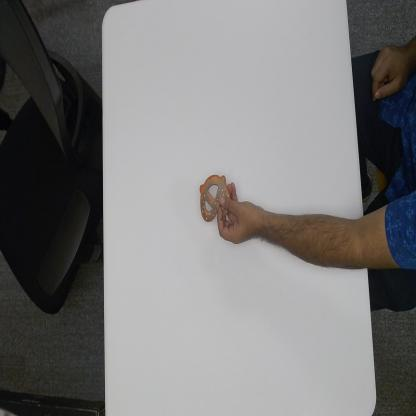Arm: (267, 184, 416, 275)
Hand: (215, 191, 266, 245)
Pretzel: (199, 169, 233, 225)
